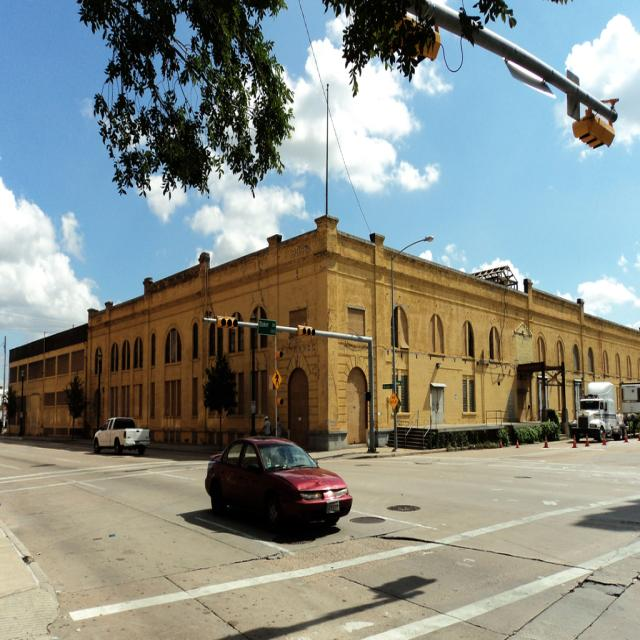car: (197, 430, 362, 536)
